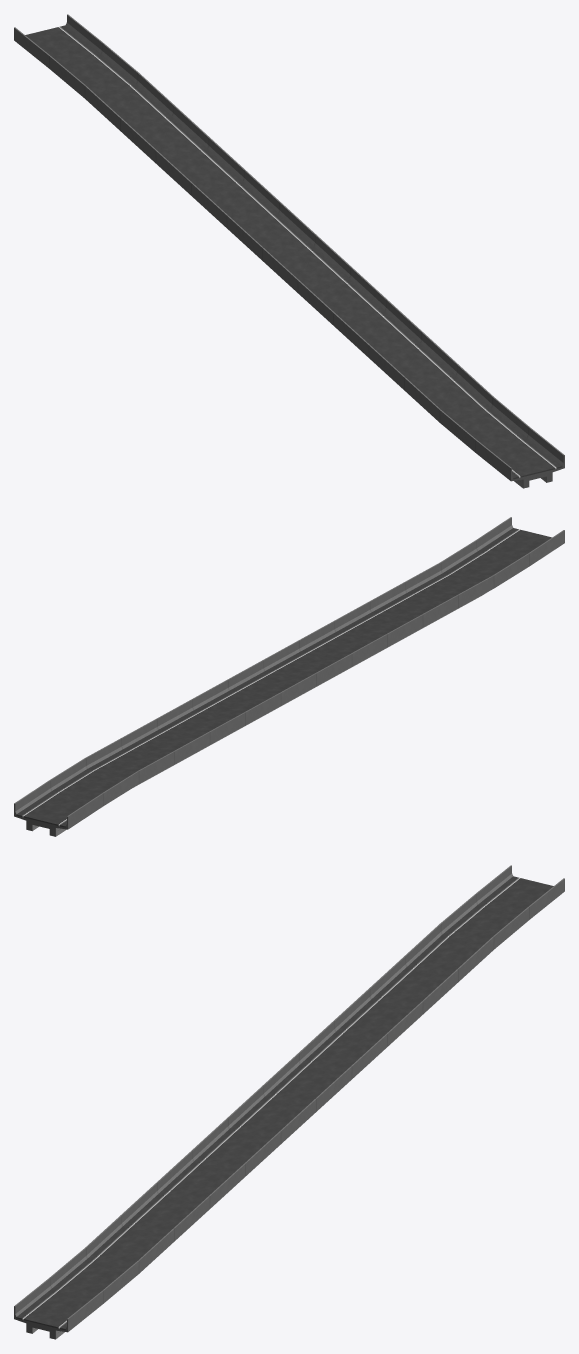
File: 【組立式】高速道路(下り勾配)_W4m×D70m×H6m.fbx
The picture shows the model from 3 angles, top to bottom: view 1: azimuth 30°, elevation 25°; view 2: azimuth 150°, elevation 25°; view 3: azimuth 330°, elevation 25°; orthographic projection.
Visible parts, largest first — view 1: 道路, 高架橋; view 2: 道路, 高架橋; view 3: 道路, 高架橋.
Part boxes in pixels (left/top/right/bottom): 道路: left=25, top=25, right=562, bottom=479; 高架橋: left=14, top=14, right=564, bottom=488; 道路: left=16, top=528, right=551, bottom=827; 高架橋: left=14, top=517, right=564, bottom=836; 道路: left=16, top=876, right=553, bottom=1330; 高架橋: left=14, top=865, right=564, bottom=1339.
Size of the model in its own units: 4.4 by 7.8 by 70.
